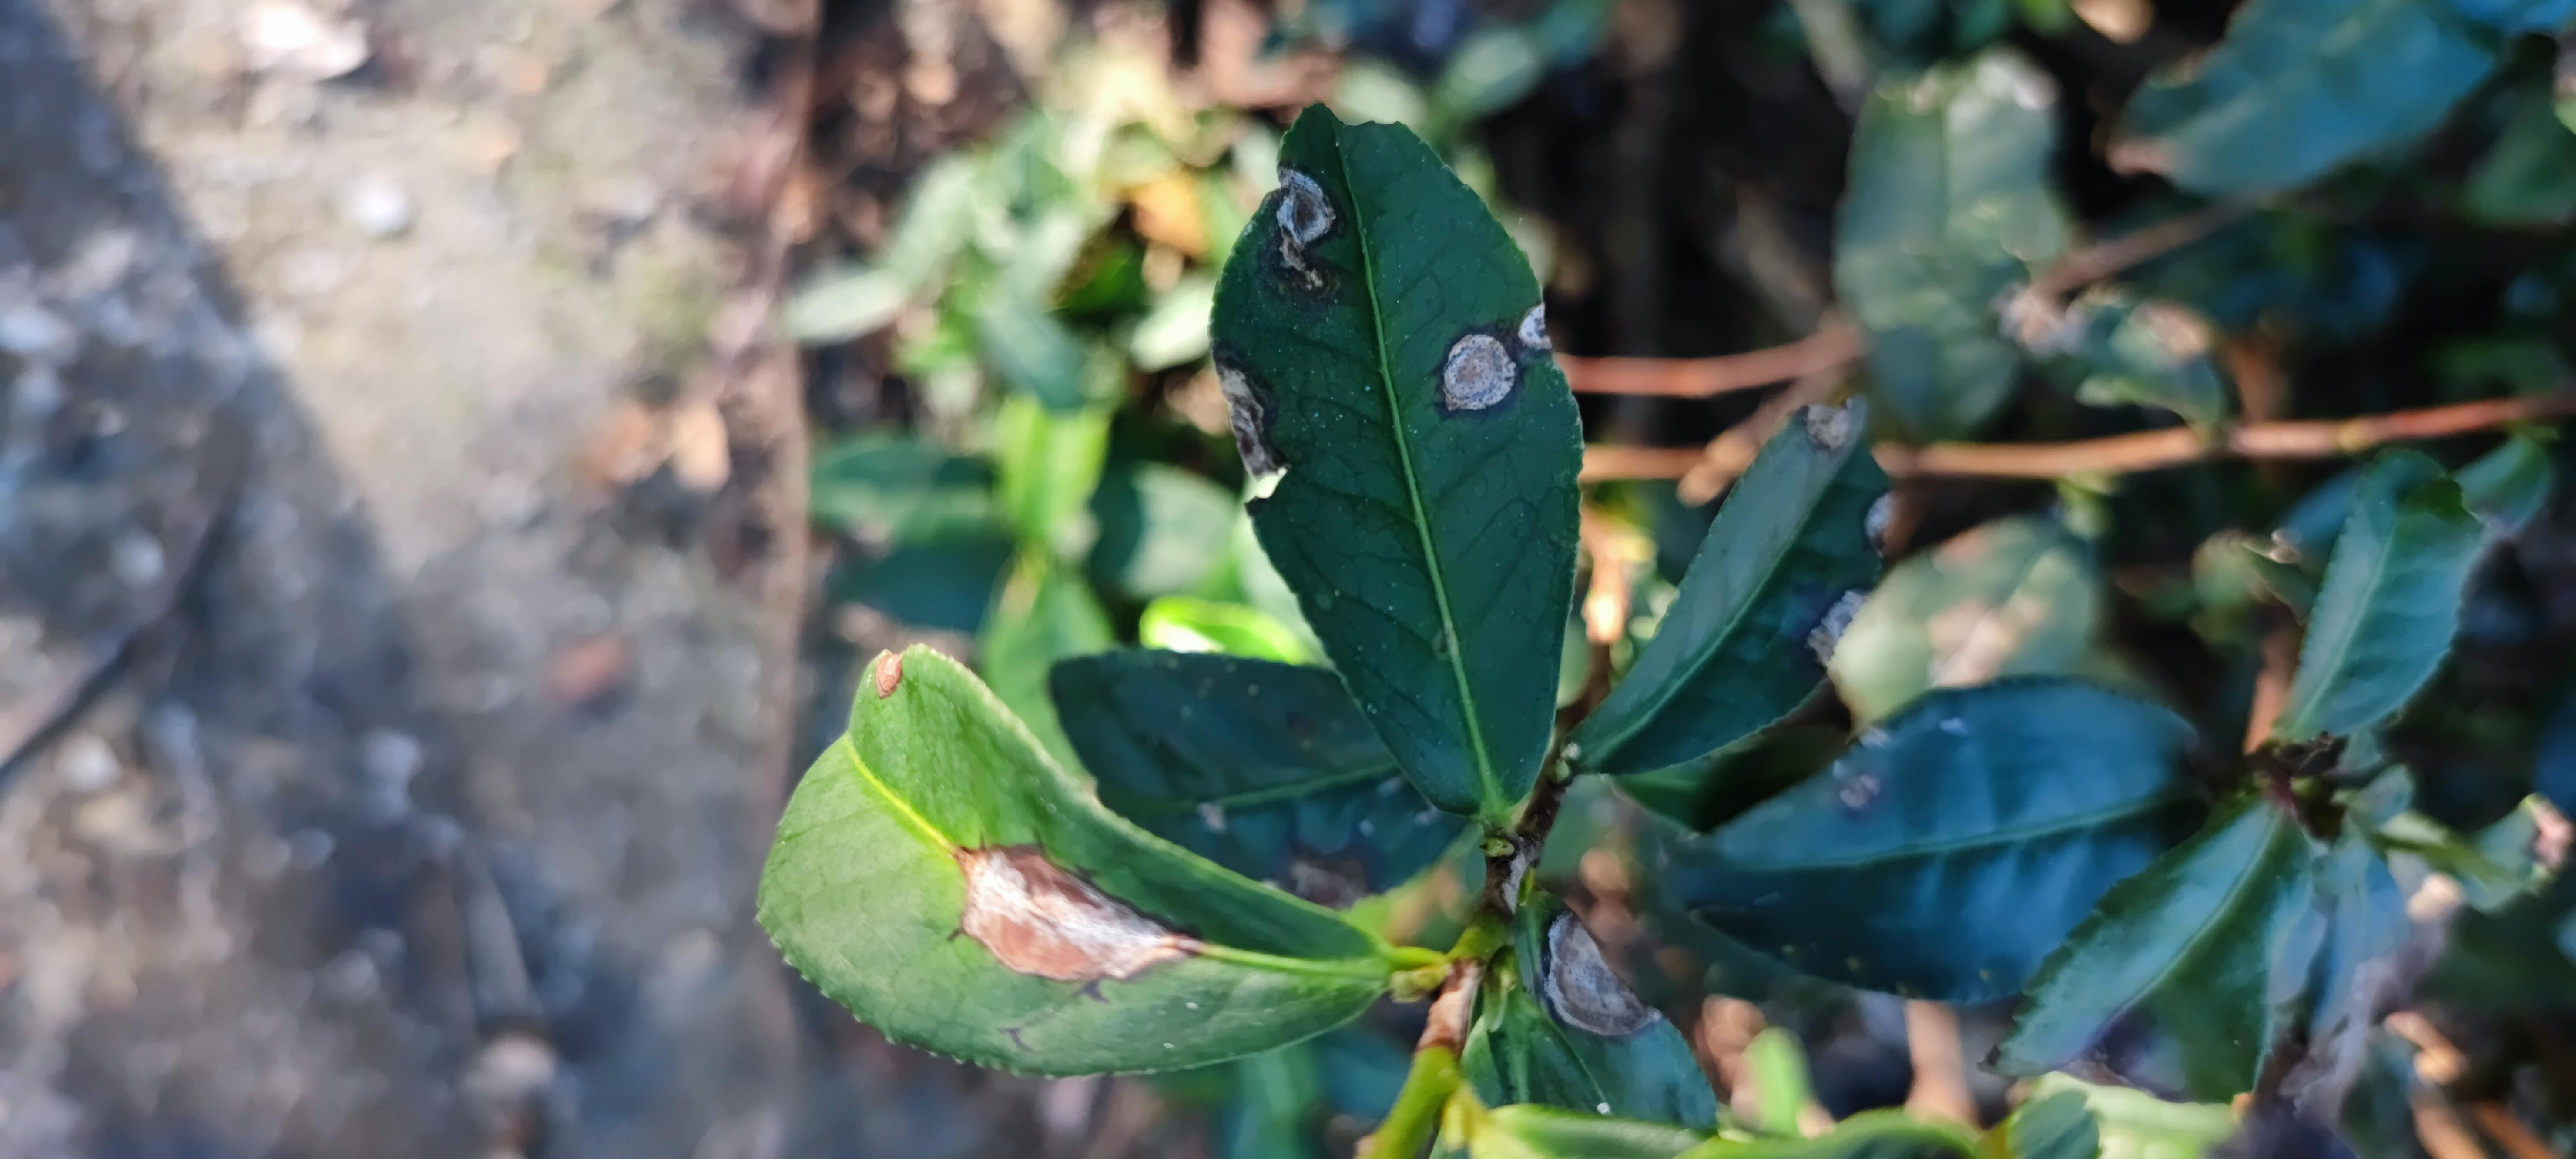chihuo_high: (1976, 780, 2316, 1103)
tanju_high: (751, 639, 1411, 1082), (1204, 98, 1587, 822), (1658, 676, 2213, 998), (1571, 396, 1893, 770), (1480, 888, 1717, 1133)
